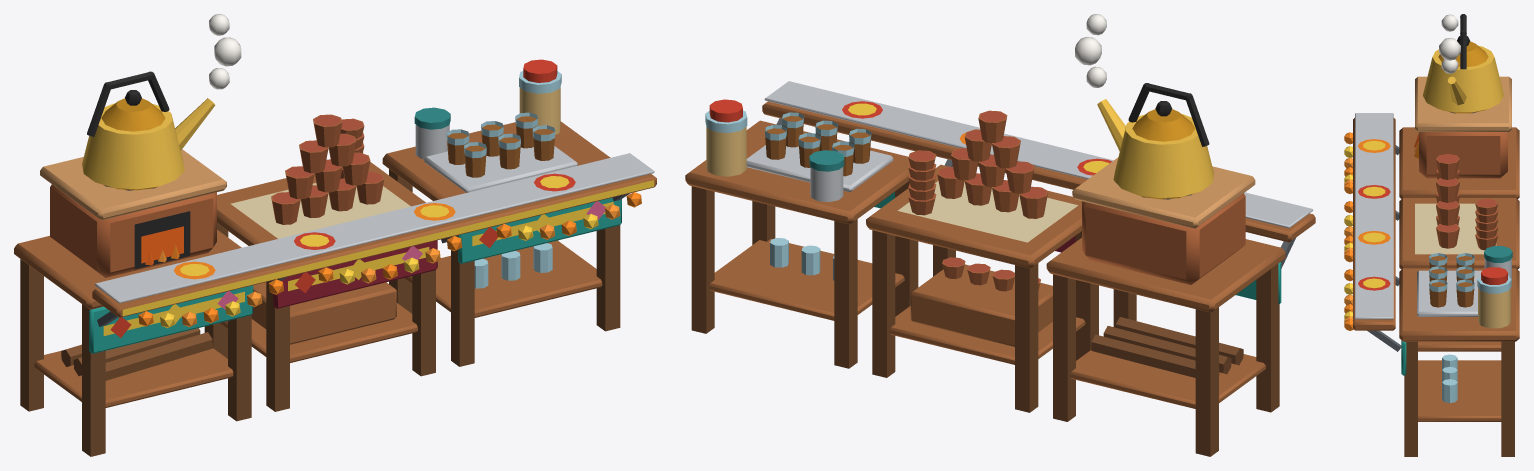
Rendered from chai_counter_v3.glb.
The picture shows the model from 3 angles, left to right: view 1: azimuth 30°, elevation 25°; view 2: azimuth 150°, elevation 25°; view 3: azimuth 270°, elevation 25°; orthographic projection. The views are drawn at different scales.
Parts seen in each view (by area): view 1: chai_counter_v3; view 2: chai_counter_v3; view 3: chai_counter_v3.
Boxes of the visible parts, box(x1,y1,x2,y2) form: chai_counter_v3: box(14, 14, 656, 456); chai_counter_v3: box(685, 14, 1315, 456); chai_counter_v3: box(1344, 14, 1519, 456).
Size of the model in its own units: 2.52 by 1.7 by 0.9048.
1 material, 1 textured.
